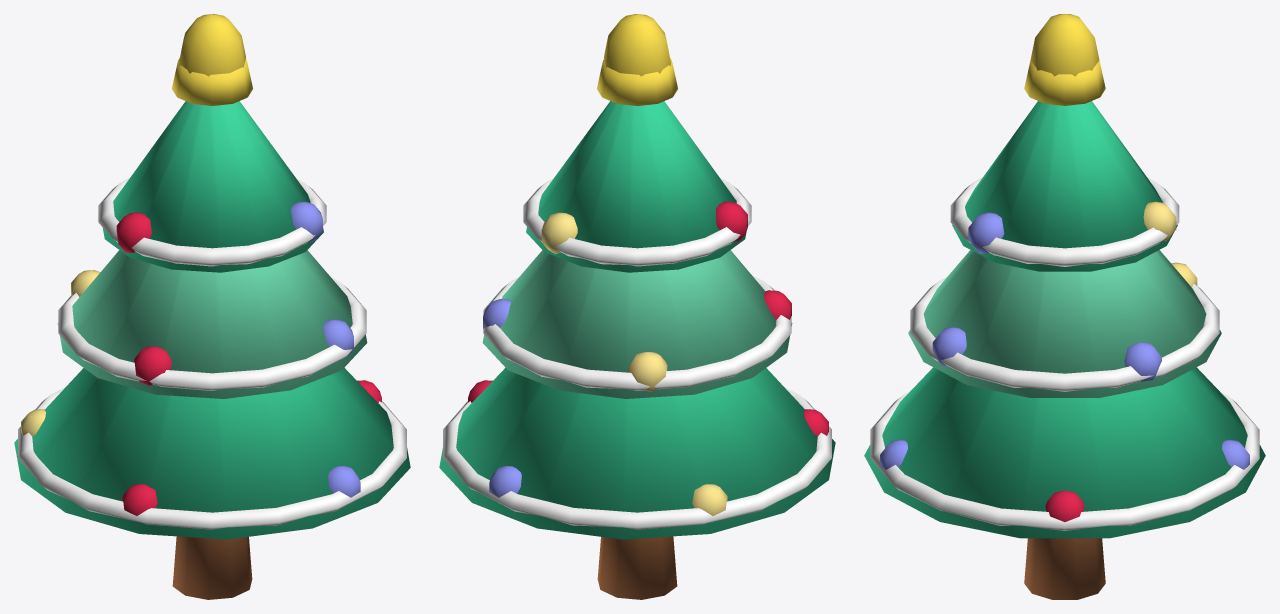
Rendered from tree-gumdrop-pine.glb.
The picture shows the model from 3 angles, left to right: view 1: azimuth 30°, elevation 25°; view 2: azimuth 150°, elevation 25°; view 3: azimuth 270°, elevation 25°; orthographic projection.
Visible parts, largest first — view 1: tree-gumdrop-pine; view 2: tree-gumdrop-pine; view 3: tree-gumdrop-pine.
Boxes of the visible parts, x1,y1,x2,y2 form: tree-gumdrop-pine: [14, 14, 410, 599]; tree-gumdrop-pine: [439, 14, 835, 599]; tree-gumdrop-pine: [864, 14, 1265, 599].
Size of the model in its own units: 1.26 by 2 by 1.28.
Materials: 1 (1 with a texture image).
